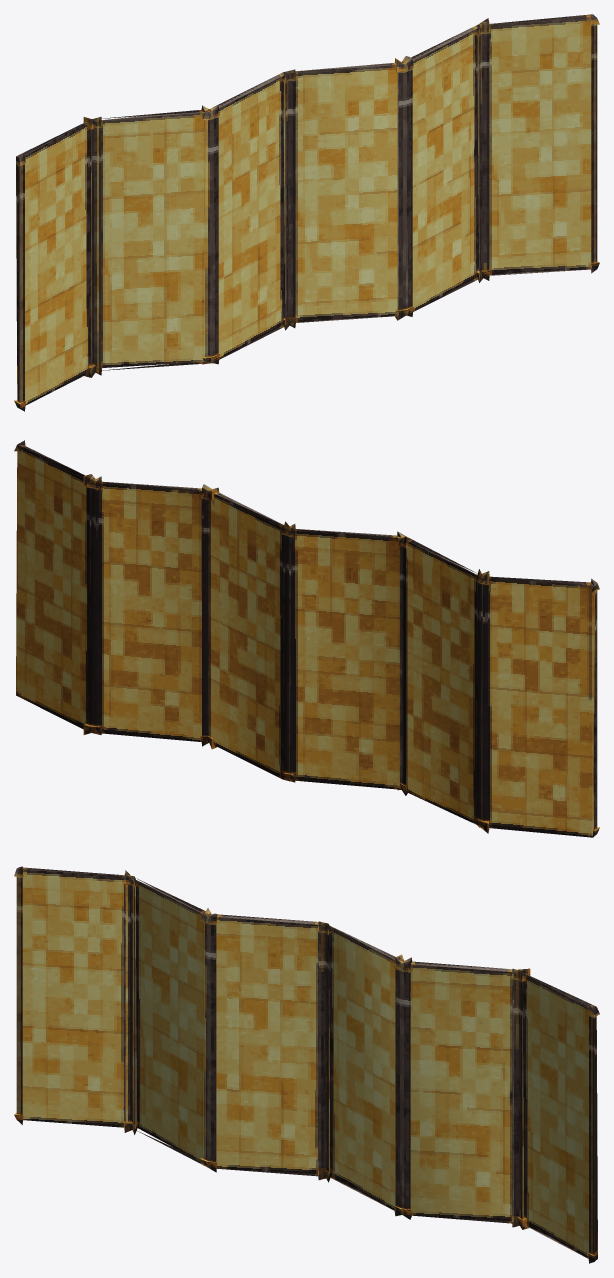
File: byobu_own.glb
3 views of the same model, one above another, from view 1: azimuth 30°, elevation 25°; view 2: azimuth 150°, elevation 25°; view 3: azimuth 330°, elevation 25° (orthographic).
Parts seen in each view (by area): view 1: mesh; view 2: mesh; view 3: mesh.
Part boxes in pixels (bbox=[...]): mesh: bbox=[14, 14, 599, 411]; mesh: bbox=[14, 440, 599, 837]; mesh: bbox=[14, 866, 599, 1263].
Bounding box in the file's own units: 1.41 × 0.6 × 0.1025.
Materials: 1 (1 with a texture image).
